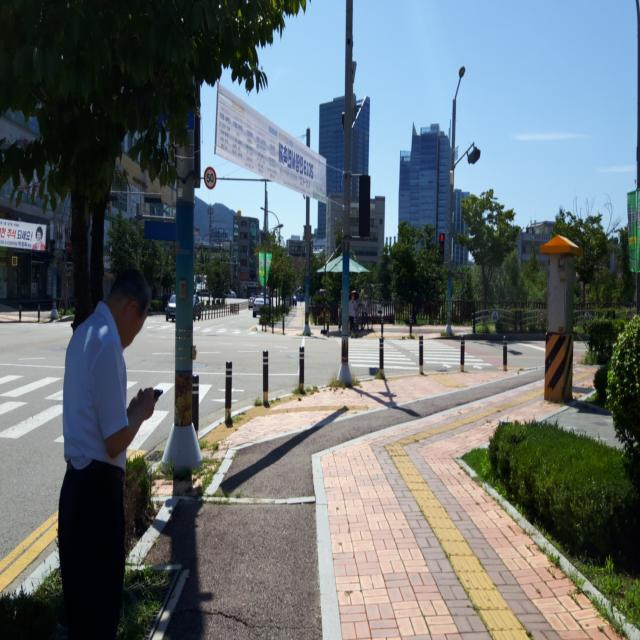빨간불: (438, 227, 447, 268)
횡단보도: (0, 370, 231, 464), (348, 338, 492, 371)
